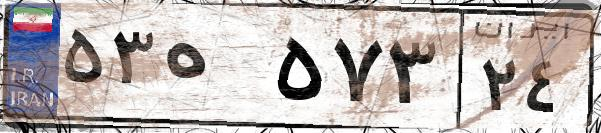2: (475, 38, 525, 113)
3: (385, 28, 445, 110), (110, 28, 158, 98)
4: (525, 38, 570, 115)
5: (270, 28, 330, 110), (57, 26, 110, 100)
7: (330, 28, 385, 110)
ه: (158, 20, 270, 120)
